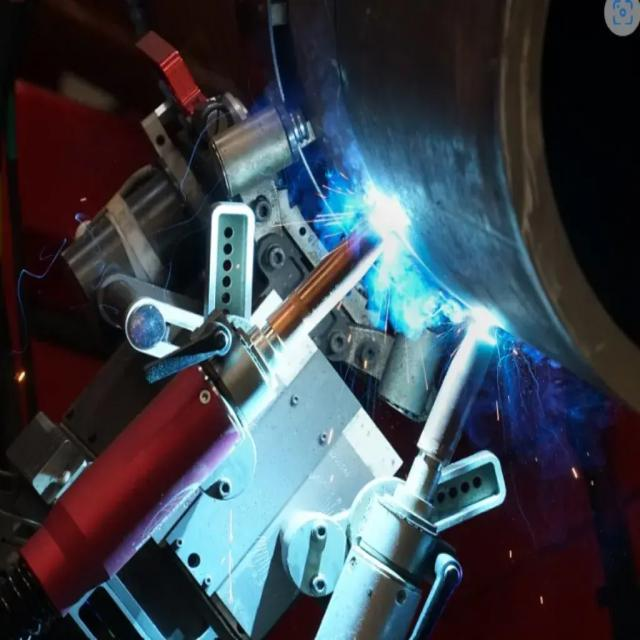welding: (370, 183, 414, 240), (472, 302, 507, 346), (380, 240, 408, 288)
